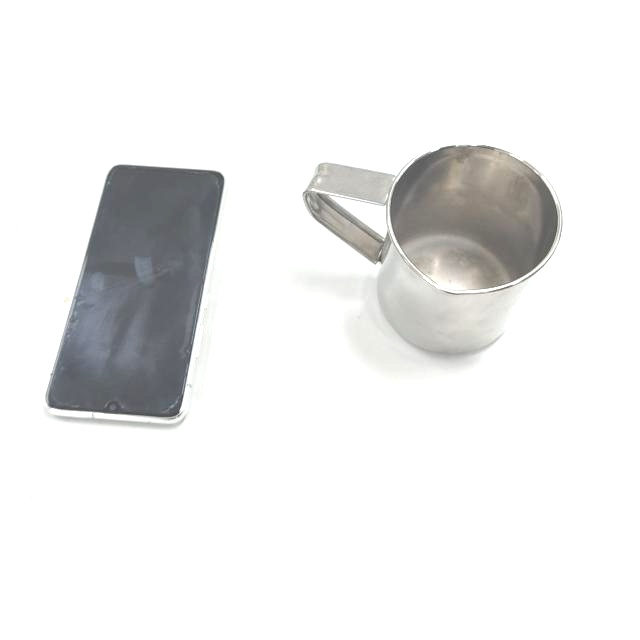cup: (301, 141, 564, 352)
phone: (43, 163, 223, 427)
